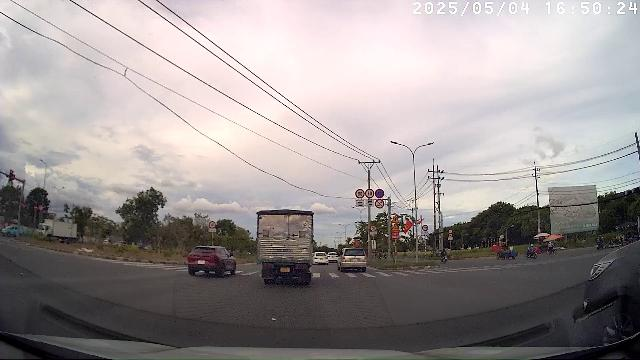127-toc-do-toi-da-60: (365, 189, 375, 199)
127-toc-do-toi-da-80: (355, 189, 365, 198)
130-cam-dung-va-do-xe: (375, 188, 384, 198)
